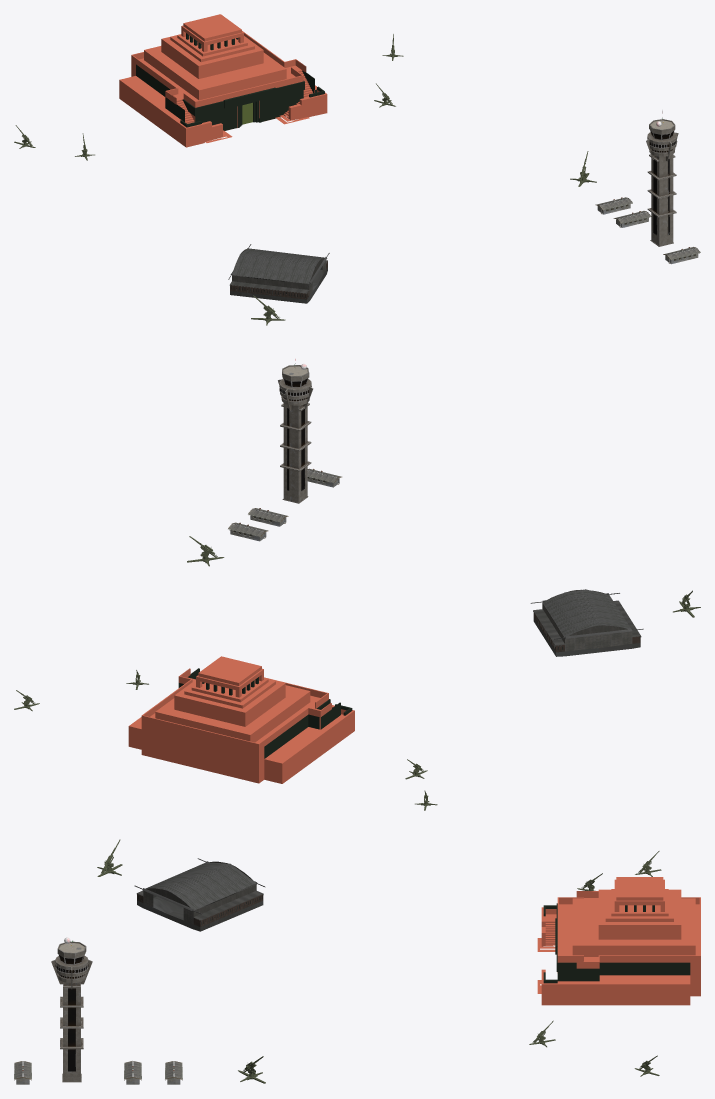
The model's file is Kremlin.glb.
3 renders of one model, top to bottom at view 1: azimuth 30°, elevation 25°; view 2: azimuth 150°, elevation 25°; view 3: azimuth 270°, elevation 25°, orthographic. The views are drawn at different scales.
Parts seen in each view (by area): view 1: Object003, Object_2, Tower_AirTower01MAT_0; view 2: Object003, Object_2, Tower_AirTower01MAT_0; view 3: Object003, Object_2, Tower_AirTower01MAT_0, Object_2.001, Object_2.002, Object_2.003.
Boxes of the visible parts, <box> form: Object003: <box>119,14,327,147</box>; Object_2: <box>228,244,329,303</box>; Tower_AirTower01MAT_0: <box>646,110,678,246</box>; Object003: <box>128,656,354,783</box>; Object_2: <box>530,589,643,656</box>; Tower_AirTower01MAT_0: <box>278,359,313,503</box>; Object003: <box>537,877,700,1005</box>; Object_2: <box>134,858,265,931</box>; Tower_AirTower01MAT_0: <box>51,937,92,1082</box>; Object_2.001: <box>14,1061,31,1084</box>; Object_2.002: <box>124,1061,141,1084</box>; Object_2.003: <box>165,1061,182,1084</box>.
Bounding box in the file's own units: 202 × 64.79 × 266.
21 materials, 5 textured.
